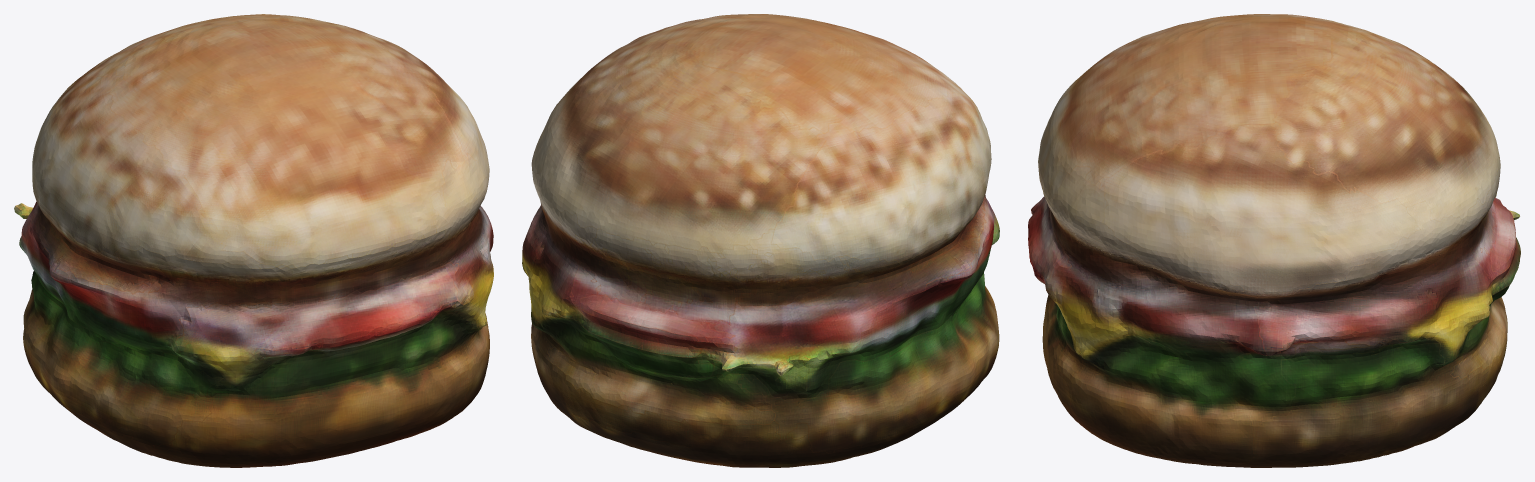
File: a hamburger._20.glb
3 renders of one model, left to right at view 1: azimuth 30°, elevation 25°; view 2: azimuth 150°, elevation 25°; view 3: azimuth 270°, elevation 25°, orthographic.
Bounding box in the file's own units: 0.8356 × 0.6539 × 0.8303.
Materials: 1 (1 with a texture image).
